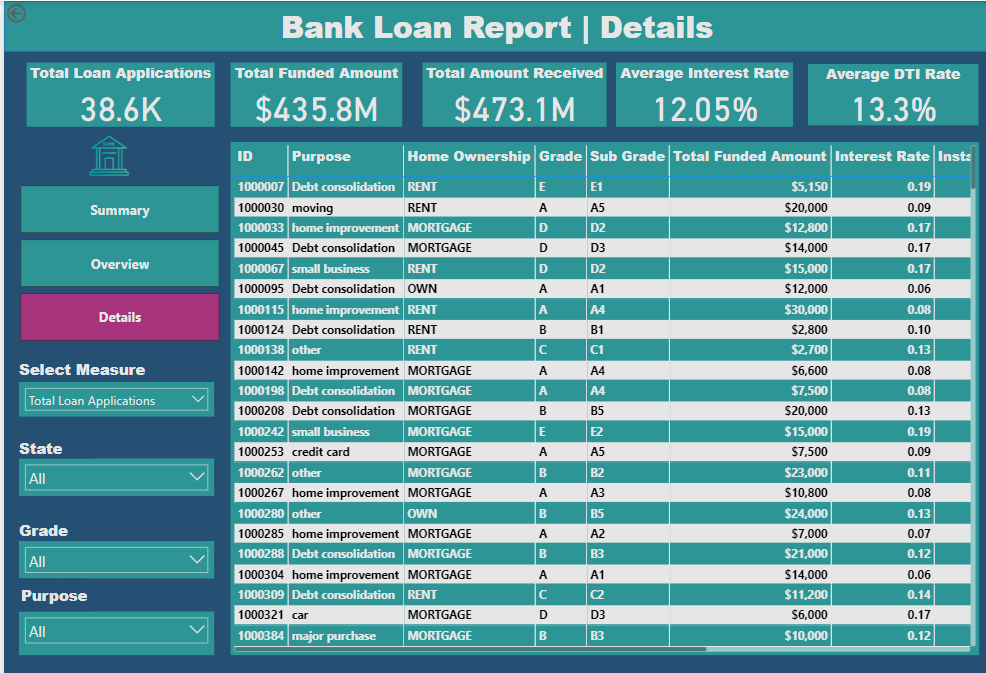

What the dashboard file says about the page in this screenshot:
{"tool":"powerbi","page":{"name":"Details","canvas":[1595,1100],"ordinal":2},"visuals":[{"type":"shape","title":"Bank Loan Report | Summary","box":[0,0,1596,81.7],"z":0},{"type":"card","title":"Total Loan Applications","fields":{"Values":["financial_loan.total app"]},"box":[35.3,99.3,304.6,103.8],"z":1000},{"type":"card","title":"Total Funded Amount","fields":{"Values":["financial_loan.total fund"]},"box":[366.4,99.3,278.1,103.8],"z":2000},{"type":"card","title":"Total Amount Received","fields":{"Values":["Sum(financial_loan.total_payment)"]},"box":[677.7,99.3,298,103.8],"z":3000},{"type":"card","title":"Average DTI Rate","fields":{"Values":["financial_loan.Average DTI Rate"]},"box":[1302.4,101.5,275.9,99.3],"z":4000},{"type":"card","title":"Average Interest Rate","fields":{"Values":["financial_loan.avg r"]},"box":[991.2,99.3,287,103.8],"z":5000},{"type":"actionButton","box":[0,0,100,40],"z":6000},{"type":"slicer","title":"State","fields":{"Values":["financial_loan.address_state"]},"box":[24.3,740.6,315.7,60.7],"z":7000},{"type":"shape","box":[24.3,575.5,216.1,41.3],"z":8000},{"type":"slicer","title":"State","fields":{"Values":["financial_loan.grade"]},"box":[24.3,874.2,315.7,60.7],"z":9000},{"type":"slicer","title":"State","fields":{"Values":["financial_loan.purpose"]},"box":[24.3,988.3,315.7,70.4],"z":10000},{"type":"shape","box":[24.3,840.2,104.4,34],"z":11000},{"type":"shape","box":[24.3,934.9,114.1,53.4],"z":12000},{"type":"slicer","fields":{"Values":["Select Measure 2.Select Measure"]},"box":[24.3,616.8,315.7,55.8],"z":13000},{"type":"shape","box":[24.3,706.6,121.4,34],"z":14000},{"type":"tableEx","fields":{"Values":["financial_loan.id","financial_loan.purpose","financial_loan.home_ownership","financial_loan.grade","financial_loan.sub_grade","financial_loan.Total Funded Amount","Sum(financial_loan.int_rate)","Sum(financial_loan.installment)","financial_loan.Total Amount Received","financial_loan.issue_date"]},"box":[366.7,228.3,1211.7,830.5],"z":14001},{"type":"pageNavigator","box":[26.7,298.7,323,252.5],"z":14002},{"type":"image","box":[99.6,201.5,140.8,97.1],"z":14003}]}

Visuals, with their boxes in screenshot pixels (x1, y1, x2, y2), scaled from the page's 1595x1100 canvas onto the 986x673 screenshot:
"Bank Loan Report | Summary" shape: <bbox>0, 0, 985, 50</bbox>
"Total Loan Applications" card: <bbox>22, 61, 210, 124</bbox>
"Total Funded Amount" card: <bbox>227, 61, 398, 124</bbox>
"Total Amount Received" card: <bbox>419, 61, 603, 124</bbox>
"Average DTI Rate" card: <bbox>805, 62, 976, 123</bbox>
"Average Interest Rate" card: <bbox>613, 61, 790, 124</bbox>
actionButton: <bbox>0, 0, 62, 24</bbox>
"State" slicer: <bbox>15, 453, 210, 490</bbox>
shape: <bbox>15, 352, 149, 377</bbox>
"State" slicer: <bbox>15, 535, 210, 572</bbox>
"State" slicer: <bbox>15, 605, 210, 648</bbox>
shape: <bbox>15, 514, 80, 535</bbox>
shape: <bbox>15, 572, 86, 605</bbox>
slicer - Select Measure 2.Select Measure: <bbox>15, 377, 210, 412</bbox>
shape: <bbox>15, 432, 90, 453</bbox>
tableEx - financial_loan.id x financial_loan.purpose: <bbox>227, 140, 976, 648</bbox>
pageNavigator: <bbox>17, 183, 216, 337</bbox>
image: <bbox>62, 123, 149, 183</bbox>
